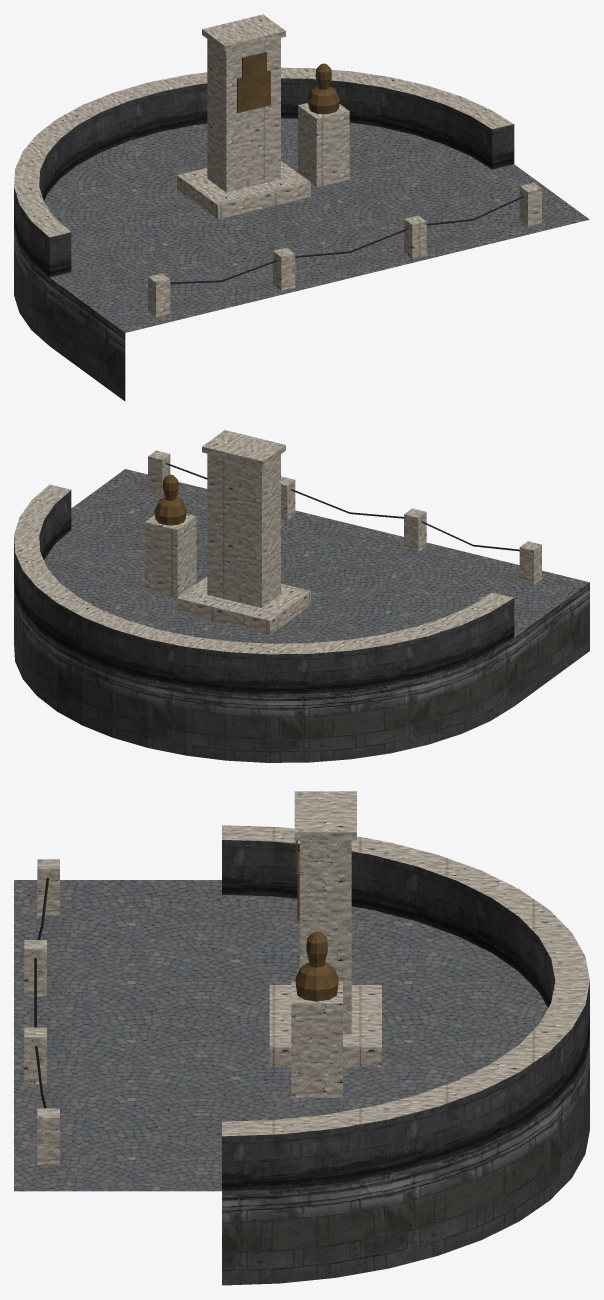
File: SM_MoloItalia_Monumento.fbx
3 renders of one model, top to bottom at view 1: azimuth 30°, elevation 25°; view 2: azimuth 150°, elevation 25°; view 3: azimuth 270°, elevation 25°, orthographic. The views are drawn at different scales.
Parts seen in each view (by area): view 1: SM_MoloItalia_Monumento; view 2: SM_MoloItalia_Monumento; view 3: SM_MoloItalia_Monumento.
Boxes of the visible parts, x1,y1,x2,y2 form: SM_MoloItalia_Monumento: [14, 14, 589, 401]; SM_MoloItalia_Monumento: [14, 430, 589, 762]; SM_MoloItalia_Monumento: [14, 791, 589, 1285].
Size of what is drawn, in the model's own units: 850 by 665 by 405.
4 materials, 4 textured.
